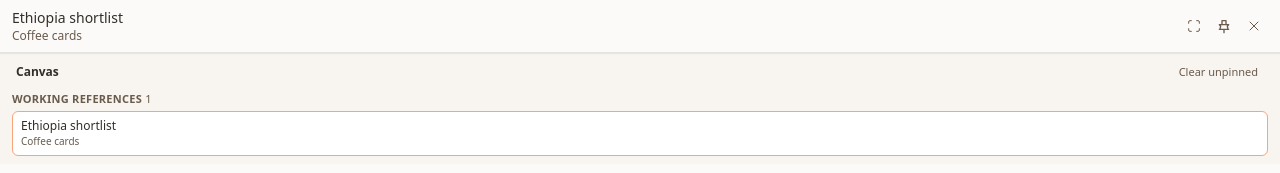
Test case: Canvas active scene and evidence shelf › pins active evidence and differentiates its shelf item
Click the button named "Pin canvas item". click: (1224, 26)
box: [1210,12,1238,40]
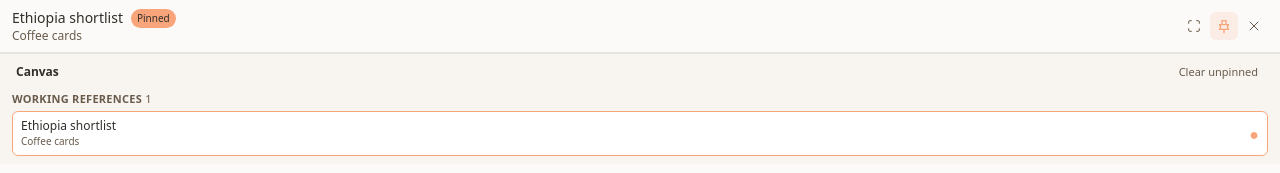
Check: the text "Pinned" is shown, box [131,8,176,28]
